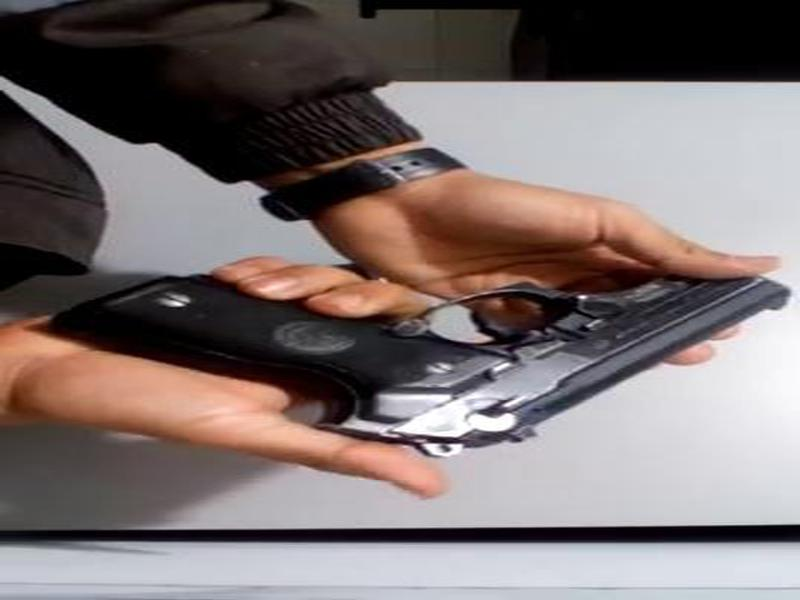Pistola: (61, 244, 800, 496)
